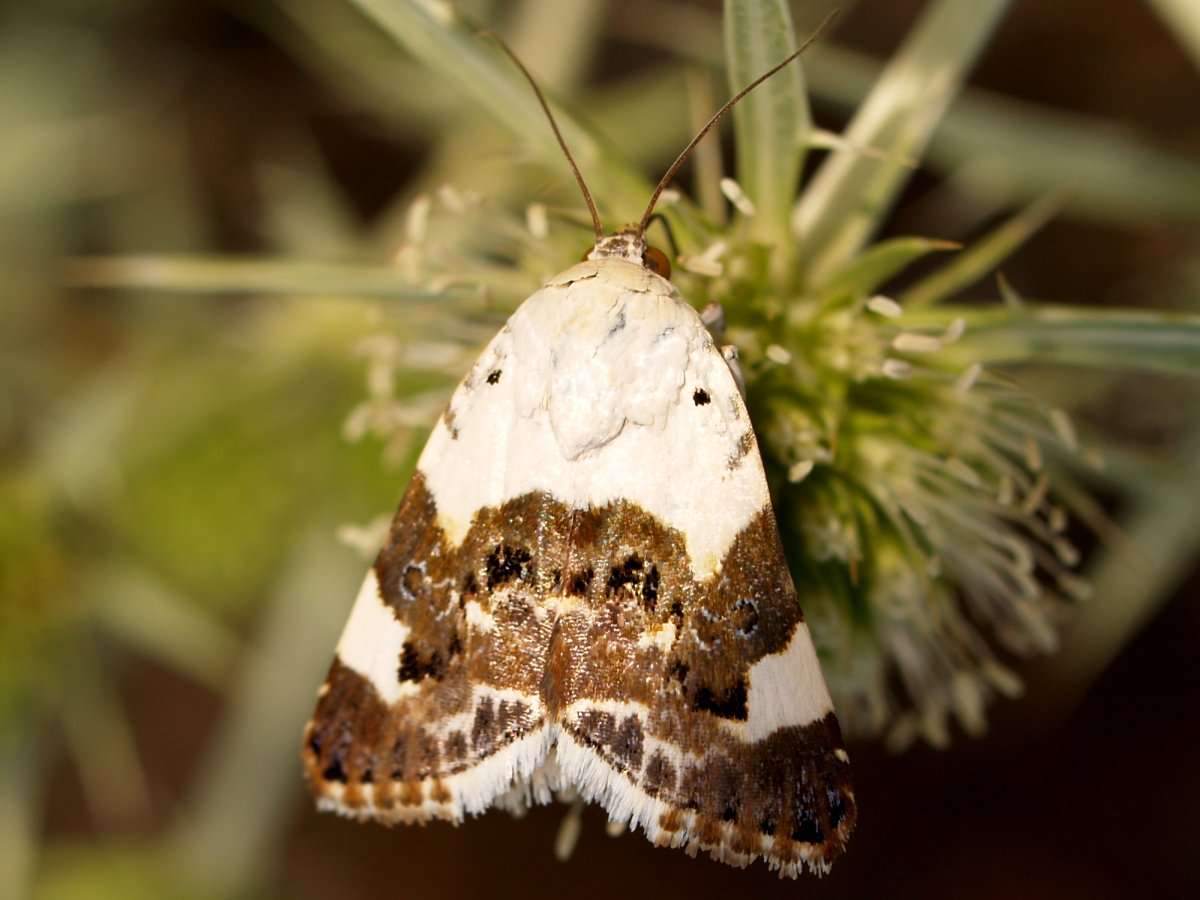Noctuidae: (302, 1, 856, 878)
